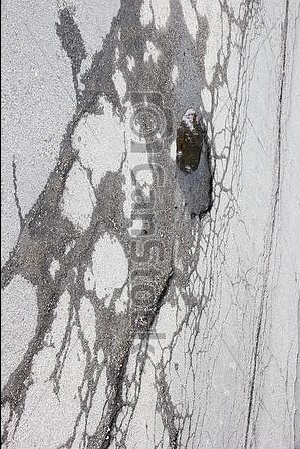pothole: (173, 102, 218, 219), (145, 264, 176, 332)
